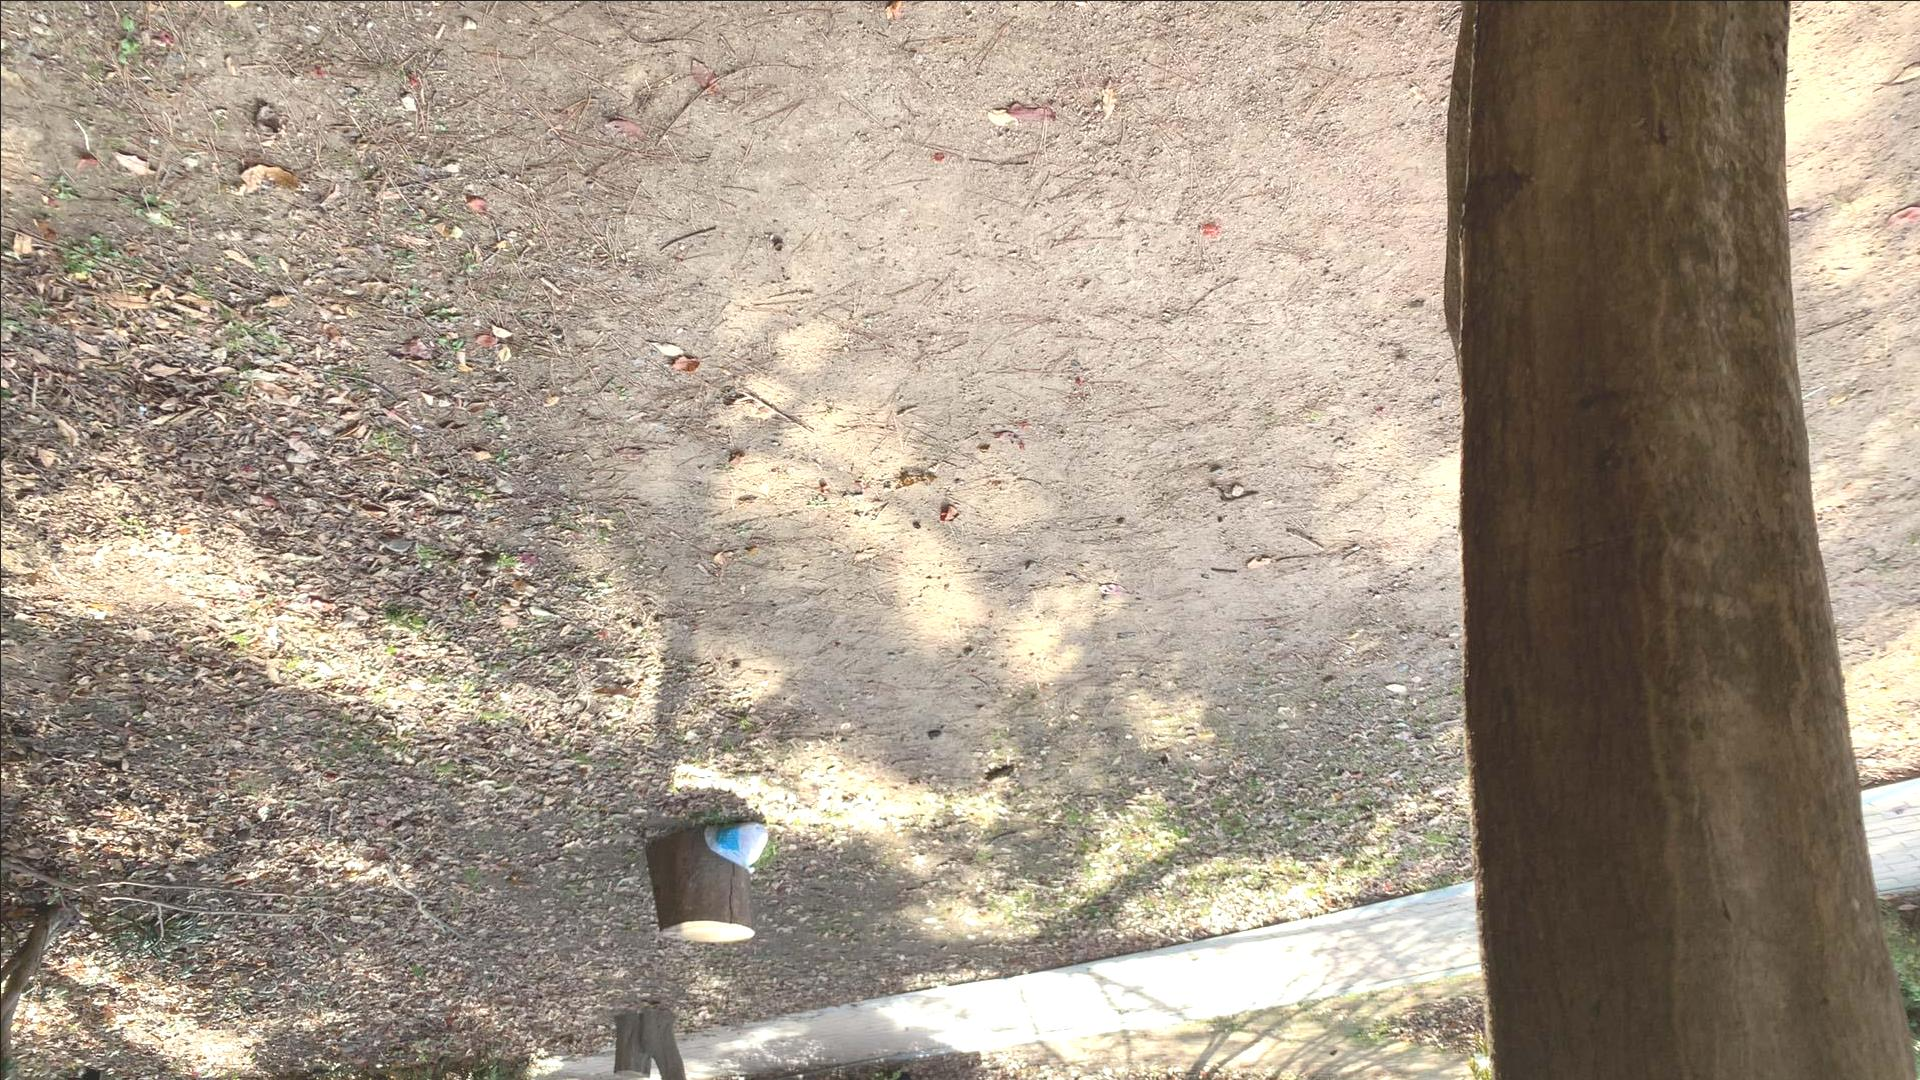white_bag: (698, 816, 773, 877)
